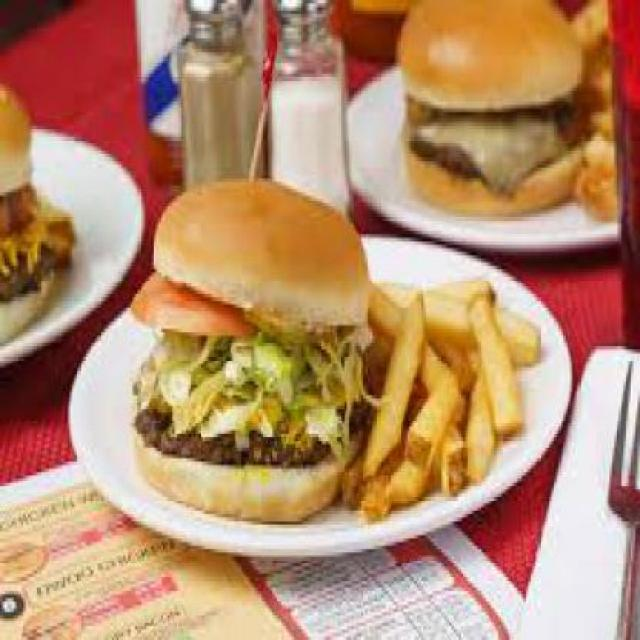french fries: (363, 272, 528, 514)
hamburger: (123, 160, 354, 514)
